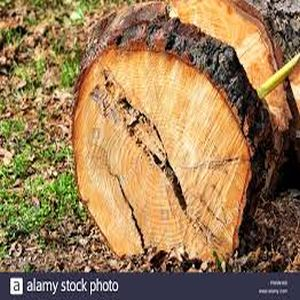log: (65, 36, 261, 270)
